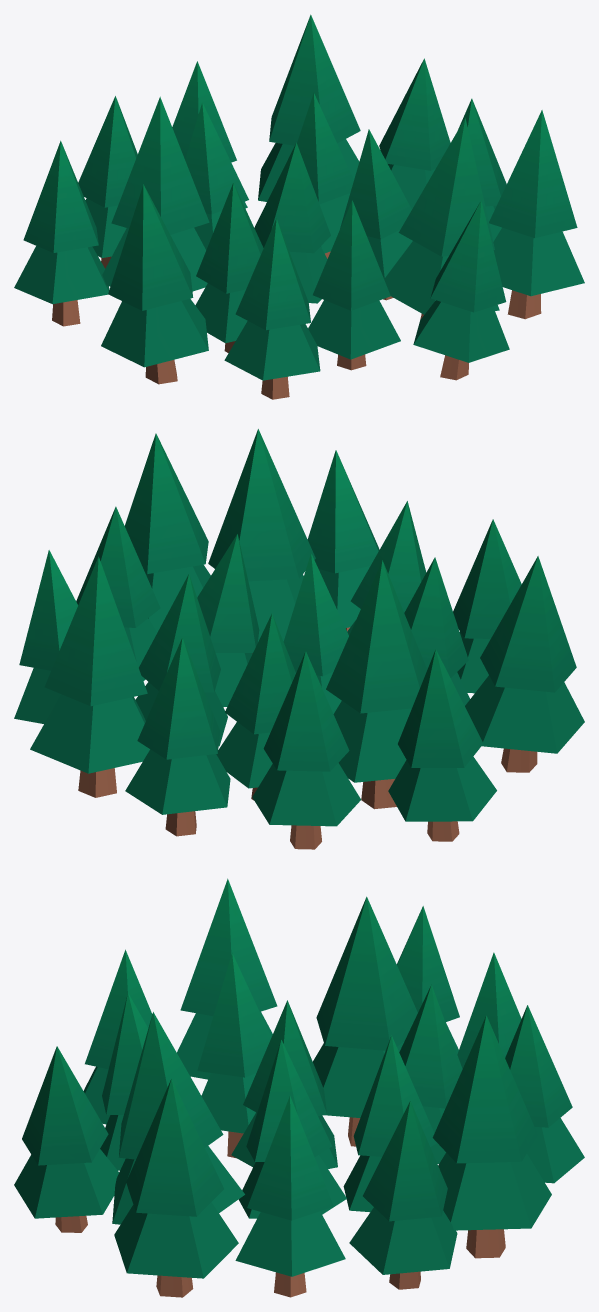
File: kaykit-medieval-hexagon-pack-trees-a-large.glb
3 renders of one model, top to bottom at view 1: azimuth 30°, elevation 25°; view 2: azimuth 150°, elevation 25°; view 3: azimuth 270°, elevation 25°, orthographic. The views are drawn at different scales.
Parts seen in each view (by area): view 1: trees_A_large; view 2: trees_A_large; view 3: trees_A_large.
Boxes of the visible parts, left/top/right/bottom form: trees_A_large: left=14, top=14, right=584, bottom=399; trees_A_large: left=14, top=429, right=584, bottom=849; trees_A_large: left=14, top=878, right=584, bottom=1297.
Size of the model in its own units: 1.95 by 0.9265 by 1.97.
1 material, 1 textured.
